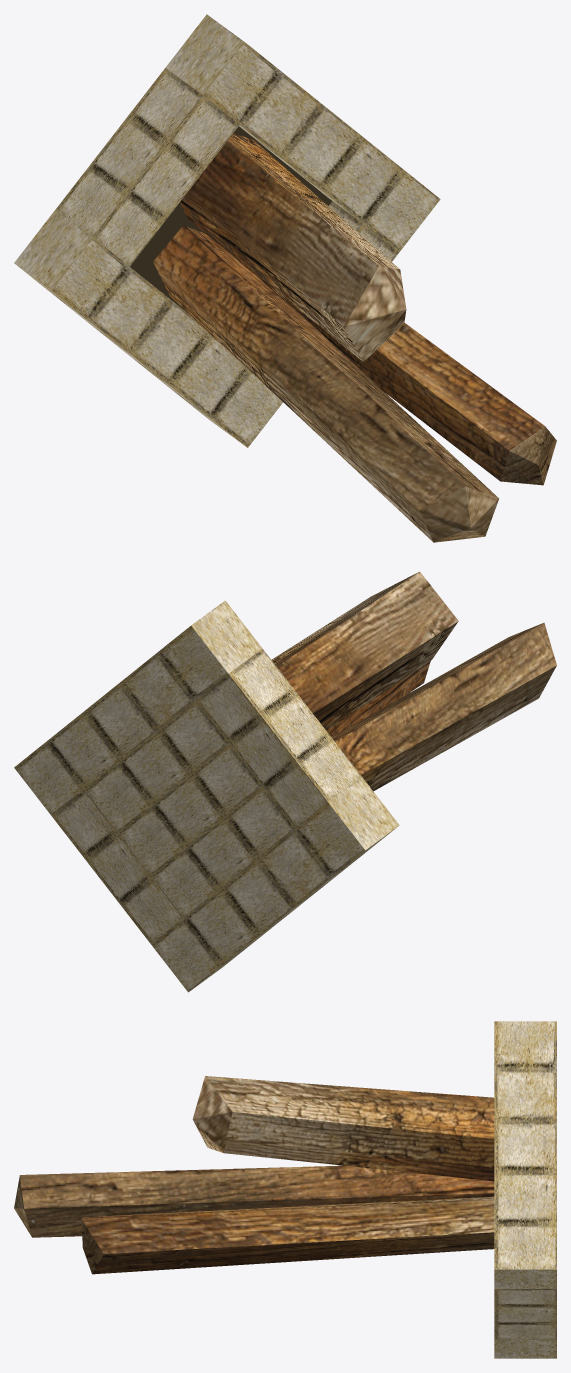
Rendered from tutorial_structure_stick_ornament_multi.dae.
3 views of the same model, one above another, from view 1: azimuth 30°, elevation 25°; view 2: azimuth 150°, elevation 25°; view 3: azimuth 270°, elevation 25° (orthographic). The views are drawn at different scales.
Visible parts, largest first — view 1: tutorial_structure_stick_ornament_multi; view 2: tutorial_structure_stick_ornament_multi; view 3: tutorial_structure_stick_ornament_multi.
Part boxes in pixels (x1,y1,x2,y2): tutorial_structure_stick_ornament_multi: (14, 14, 556, 542); tutorial_structure_stick_ornament_multi: (14, 571, 556, 992); tutorial_structure_stick_ornament_multi: (14, 1021, 556, 1358).
Bounding box in the file's own units: 2.63 × 3.84 × 2.63.
3 materials, 3 textured.
